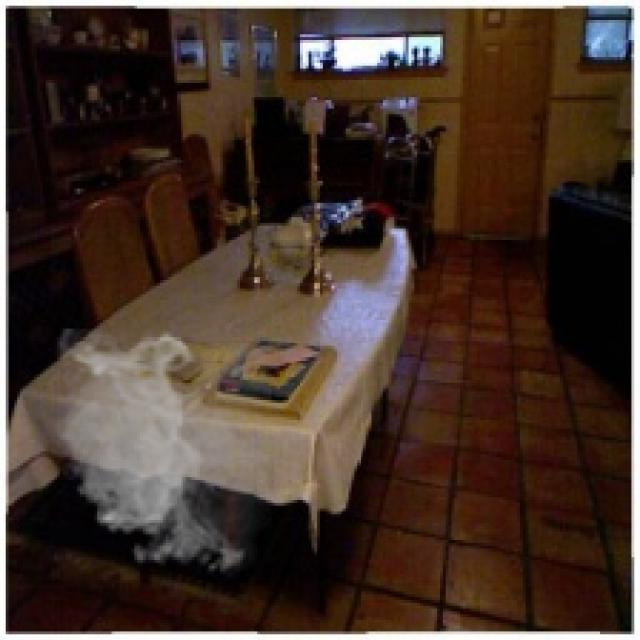Smoke: (45, 328, 272, 580)
